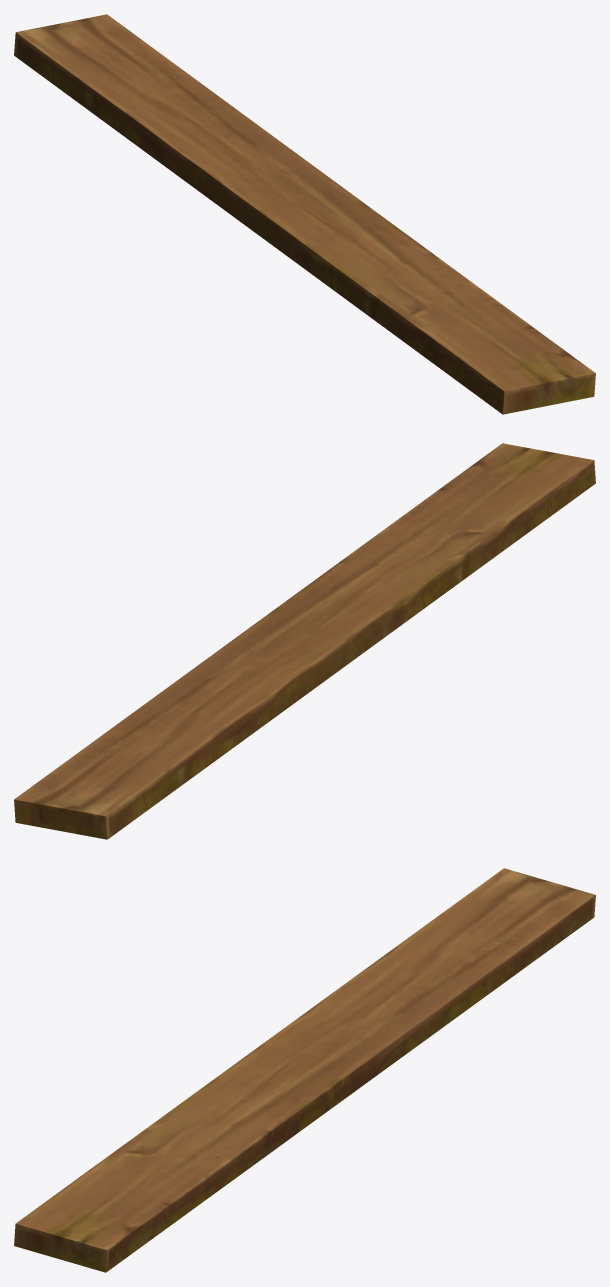
File: CeShi_BFB07_Pinmutou01.FBX
3 views of the same model, one above another, from view 1: azimuth 30°, elevation 25°; view 2: azimuth 150°, elevation 25°; view 3: azimuth 330°, elevation 25° (orthographic).
Visible parts, largest first — view 1: CeShi_BFB07_Pinmutou01; view 2: CeShi_BFB07_Pinmutou01; view 3: CeShi_BFB07_Pinmutou01.
Part boxes in pixels (x1,y1,x2,y2): CeShi_BFB07_Pinmutou01: [14, 14, 595, 414]; CeShi_BFB07_Pinmutou01: [14, 443, 595, 839]; CeShi_BFB07_Pinmutou01: [14, 868, 595, 1272].
Size of the model in its own units: 34.7 by 9.85 by 309.
